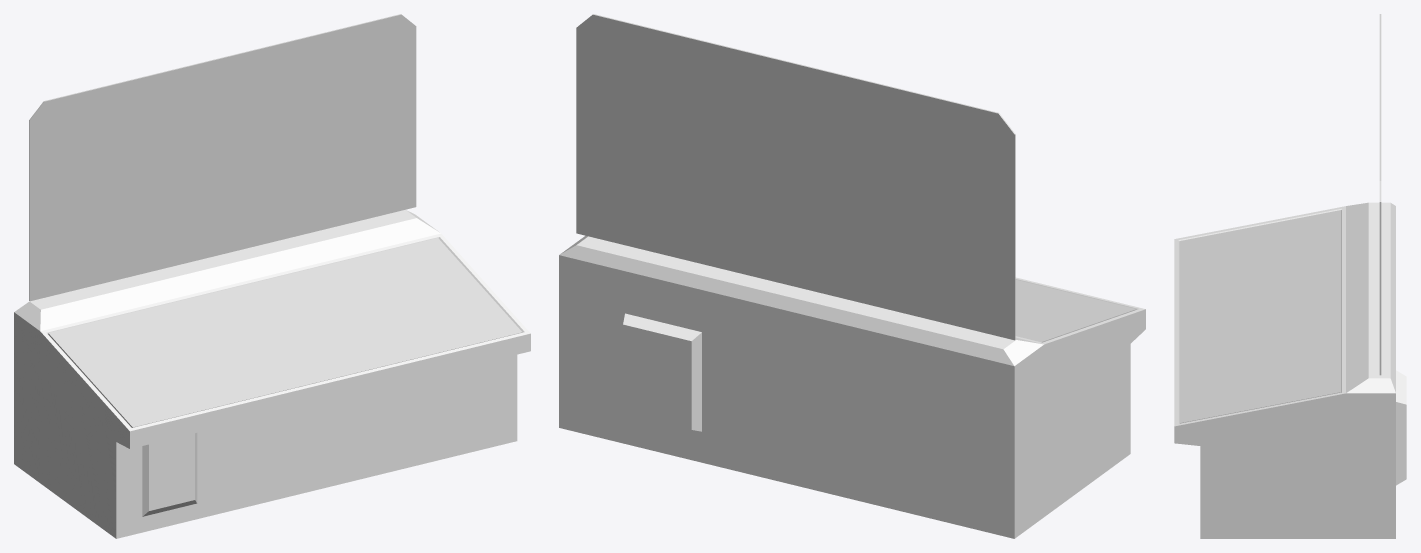
File: Console.fbx
3 renders of one model, left to right at view 1: azimuth 30°, elevation 25°; view 2: azimuth 150°, elevation 25°; view 3: azimuth 270°, elevation 25°, orthographic. The views are drawn at different scales.
Visible parts, largest first — view 1: Plane, Cube, Plane.002; view 2: Cube, Plane, Plane.002; view 3: Cube, Plane.002, Plane.
Part boxes in pixels (<box>): Plane: <box>29,14,416,301</box>; Cube: <box>14,210,530,538</box>; Plane.002: <box>48,238,522,427</box>; Cube: <box>559,235,1145,538</box>; Plane: <box>576,14,1015,340</box>; Plane.002: <box>1015,279,1136,342</box>; Cube: <box>1174,202,1406,538</box>; Plane.002: <box>1179,210,1341,423</box>; Plane: <box>1379,14,1381,375</box>.
Bounding box in the file's own units: 300 × 260 × 157.
Materials: 1 (1 with a texture image).
